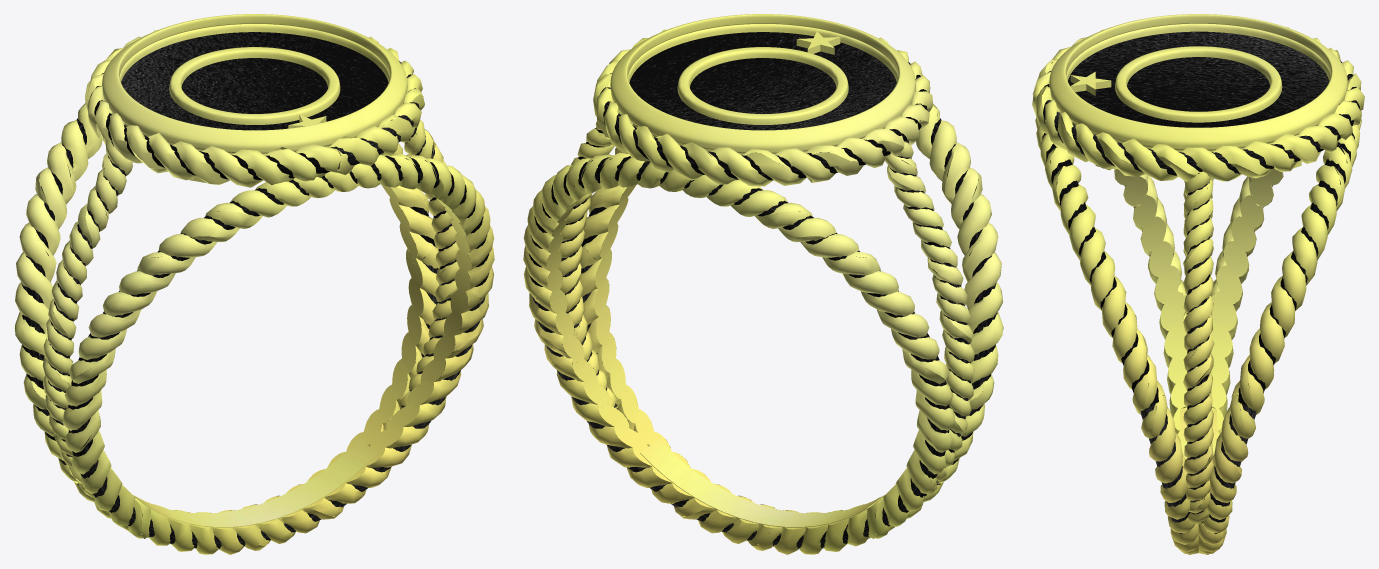
The model's file is ring21.glb.
The picture shows the model from 3 angles, left to right: view 1: azimuth 30°, elevation 25°; view 2: azimuth 150°, elevation 25°; view 3: azimuth 270°, elevation 25°; orthographic projection. The views are drawn at different scales.
Parts seen in each view (by area): view 1: body, black; view 2: body, black; view 3: body, black.
Part boxes in pixels (x1,y1,x2,y2): body: (14,14,494,554); black: (21,32,489,549); body: (523,14,1003,554); black: (528,32,997,549); body: (1032,14,1364,554); black: (1040,31,1359,533).
Size of the model in its own units: 20.91 by 22.48 by 14.64.
Materials: 2 (2 with a texture image).
